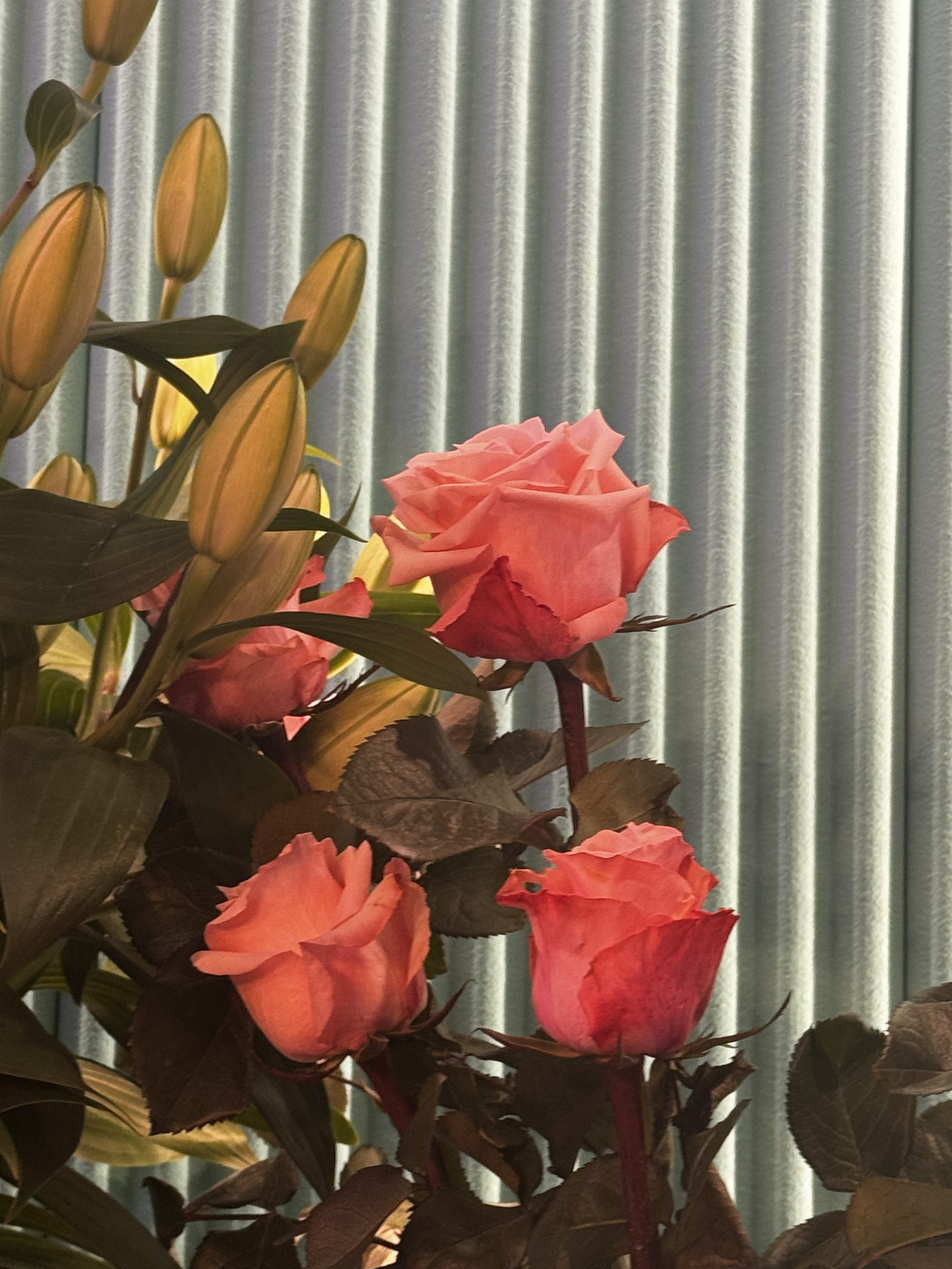rose: (362, 406, 680, 691), (181, 818, 443, 1080), (493, 818, 731, 1070), (117, 537, 356, 744)
tulip: (0, 195, 116, 426), (195, 370, 317, 550), (154, 118, 242, 296), (289, 212, 381, 368)
